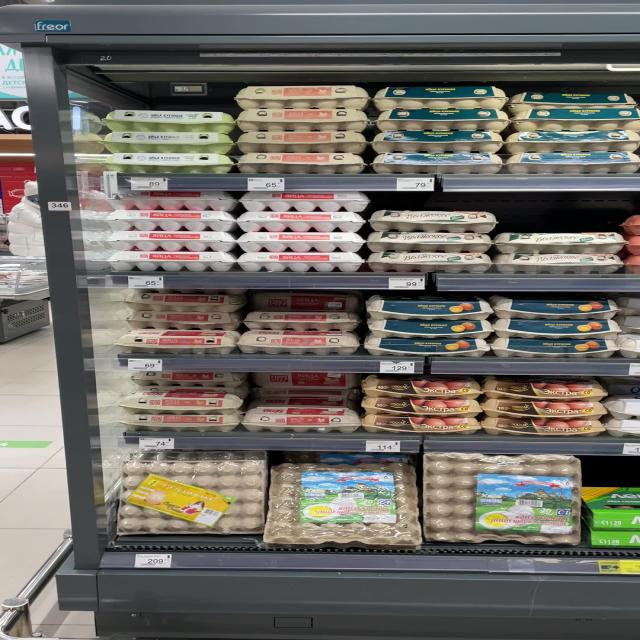egg box: (422, 451, 584, 548), (114, 455, 266, 539), (271, 464, 419, 548), (346, 332, 491, 358), (501, 228, 626, 258), (351, 391, 489, 418), (98, 107, 235, 134), (347, 106, 507, 129), (380, 84, 508, 112), (489, 390, 607, 420), (486, 332, 617, 359), (226, 86, 373, 110), (238, 403, 366, 430), (233, 208, 365, 234), (356, 128, 503, 151), (119, 408, 245, 434), (121, 388, 242, 415), (500, 128, 638, 151), (368, 210, 498, 234), (96, 128, 236, 150), (361, 408, 479, 434), (356, 151, 508, 171), (363, 296, 493, 319), (486, 380, 610, 404), (491, 252, 626, 274), (233, 127, 355, 151), (114, 304, 236, 328), (470, 414, 603, 436), (498, 151, 636, 172), (100, 231, 237, 252), (512, 104, 636, 127), (361, 228, 488, 250), (358, 378, 479, 401), (235, 254, 361, 276), (235, 231, 373, 251), (238, 194, 370, 214), (105, 210, 237, 230), (105, 252, 242, 271), (233, 111, 363, 131), (102, 152, 230, 172), (238, 308, 354, 330), (231, 334, 356, 354), (366, 251, 489, 271), (489, 315, 611, 335), (361, 319, 488, 338), (518, 91, 638, 111), (119, 191, 233, 212), (226, 153, 356, 170), (124, 292, 245, 310), (117, 334, 230, 352), (489, 300, 611, 316), (114, 374, 237, 386)
